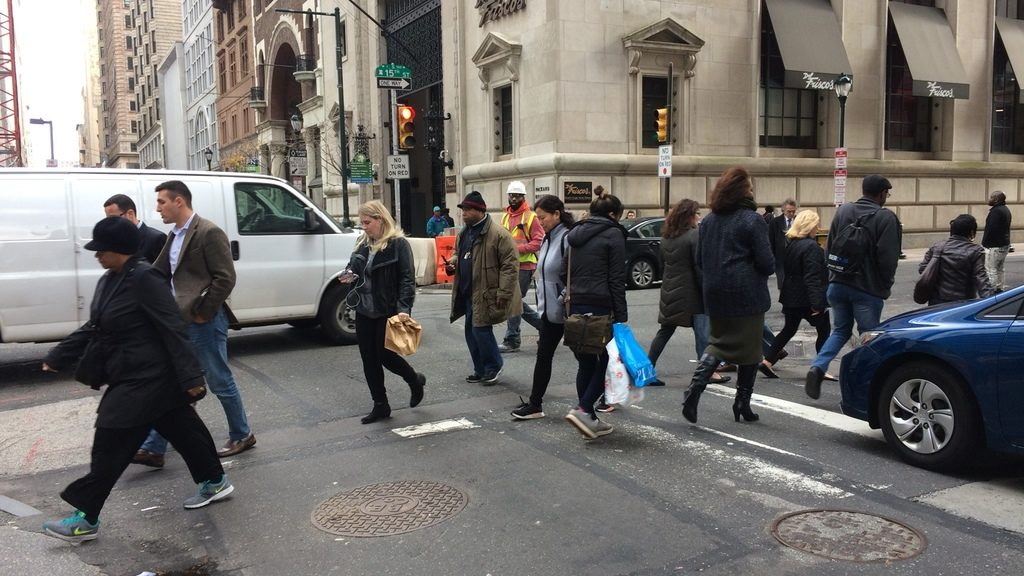pedestrian: (52, 218, 235, 536), (120, 175, 241, 487), (678, 159, 777, 427), (566, 185, 656, 447), (331, 194, 432, 421), (517, 194, 608, 409), (807, 166, 887, 410), (437, 186, 521, 386), (769, 203, 832, 372)
